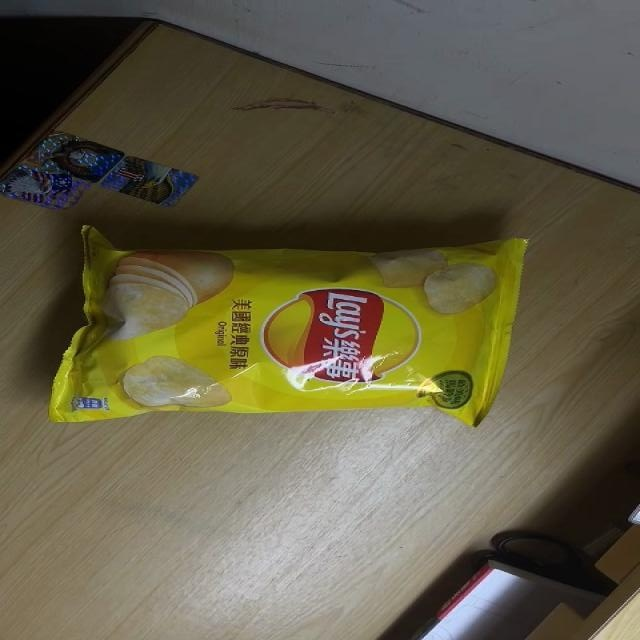Lay-s-original: (43, 223, 535, 429)
